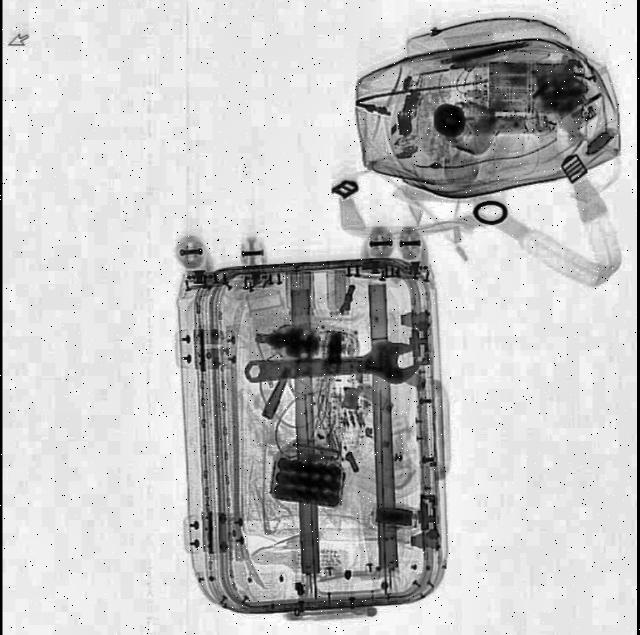Wrench: (243, 338, 424, 395)
